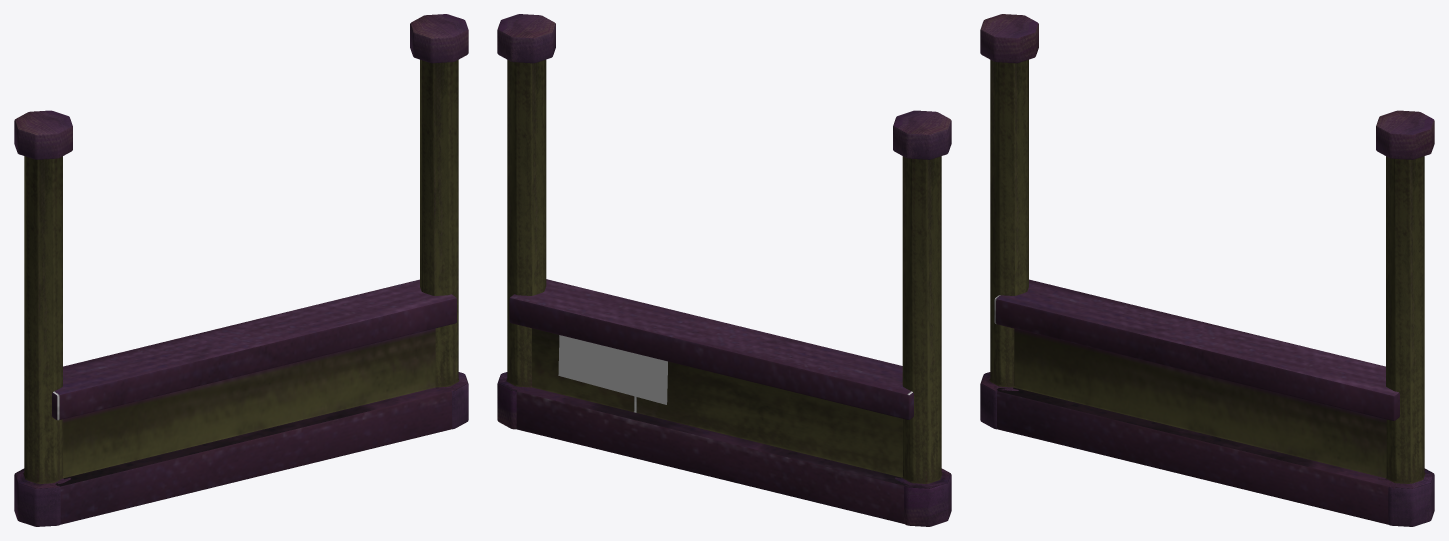
The model's file is MANOR_WALL_3_1_001.obj.
3 renders of one model, left to right at view 1: azimuth 30°, elevation 25°; view 2: azimuth 150°, elevation 25°; view 3: azimuth 330°, elevation 25°, orthographic.
Visible parts, largest first — view 1: MANOR_WALL_3_1_001; view 2: MANOR_WALL_3_1_001; view 3: MANOR_WALL_3_1_001.
Boxes of the visible parts, x1,y1,x2,y2 form: MANOR_WALL_3_1_001: (14,14,468,526); MANOR_WALL_3_1_001: (497,14,951,526); MANOR_WALL_3_1_001: (980,14,1434,526).
Bounding box in the file's own units: 3.57 × 3 × 0.4135.
